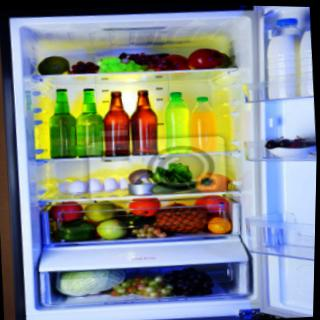Egg: (85, 176, 106, 193), (99, 174, 120, 191), (54, 177, 74, 194), (71, 177, 91, 194)
Juice: (187, 93, 223, 153)
fruit: (182, 43, 224, 70), (95, 53, 142, 73), (37, 52, 73, 77), (146, 56, 167, 70)
